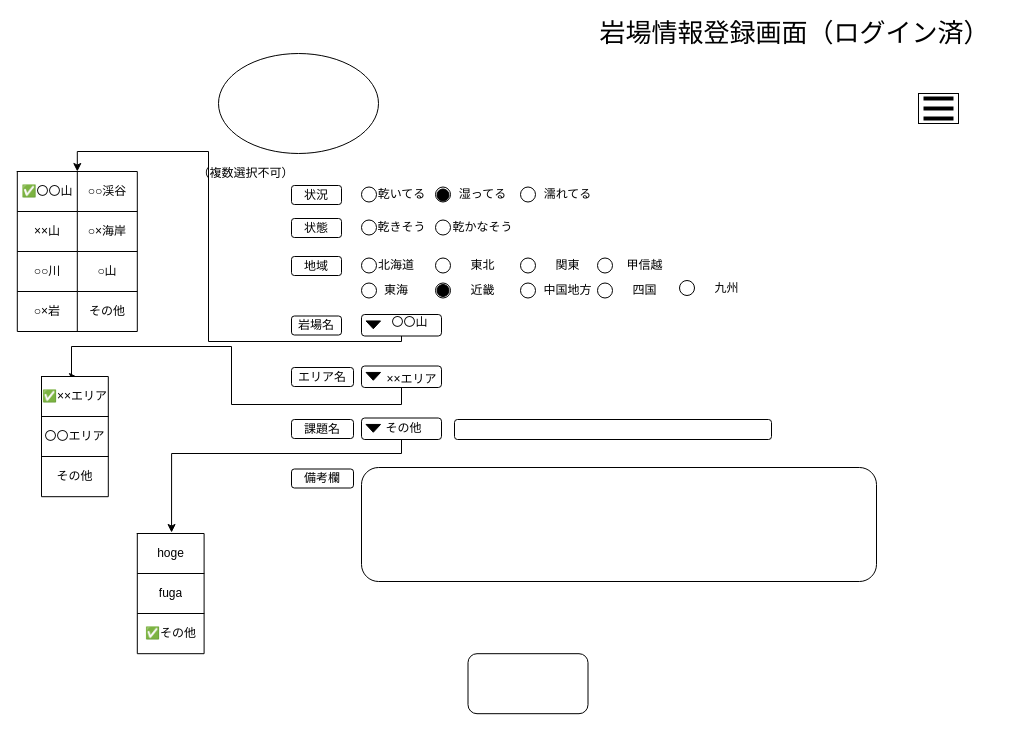
Some shapes in this 1010 by 731 pixel diagram are drawn without their labels. The shapes that lost their labels are listed below. From the top down, each one's box as (x1, y1, x2, y2) in pixels, then its label:
(218, 52, 378, 154): ロゴ？
(454, 418, 772, 440): 自由記入ex unko
(360, 466, 876, 582): ex 渡渉不可能、○時間後には乾きそう...etc
(467, 653, 588, 714): 登録
